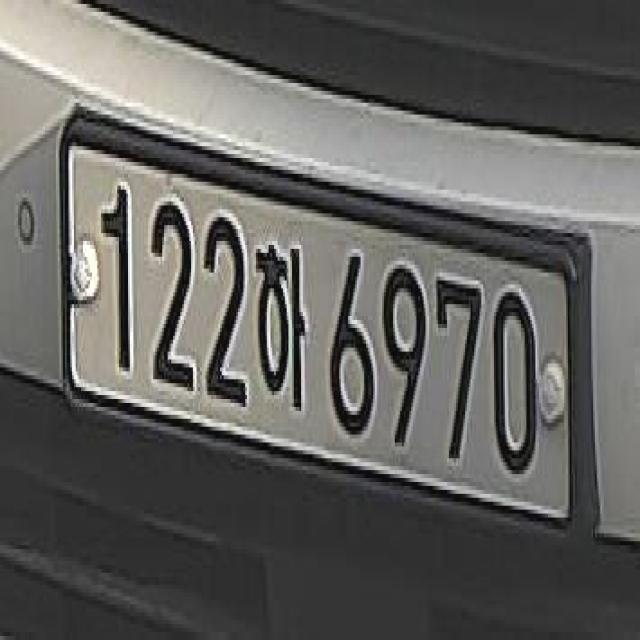illegal_plate: (53, 118, 574, 540)
